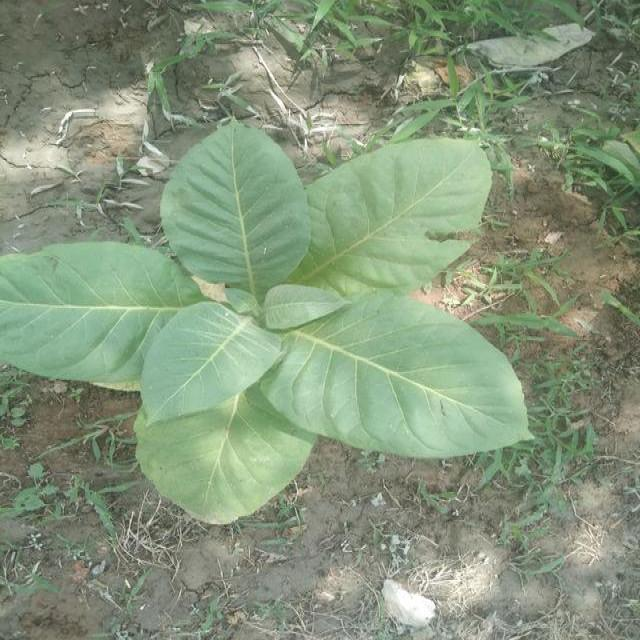crop: (0, 116, 536, 521)
